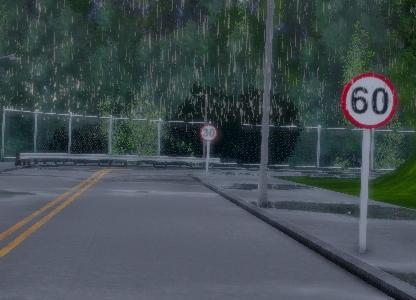Speed_60: (340, 72, 399, 129)
